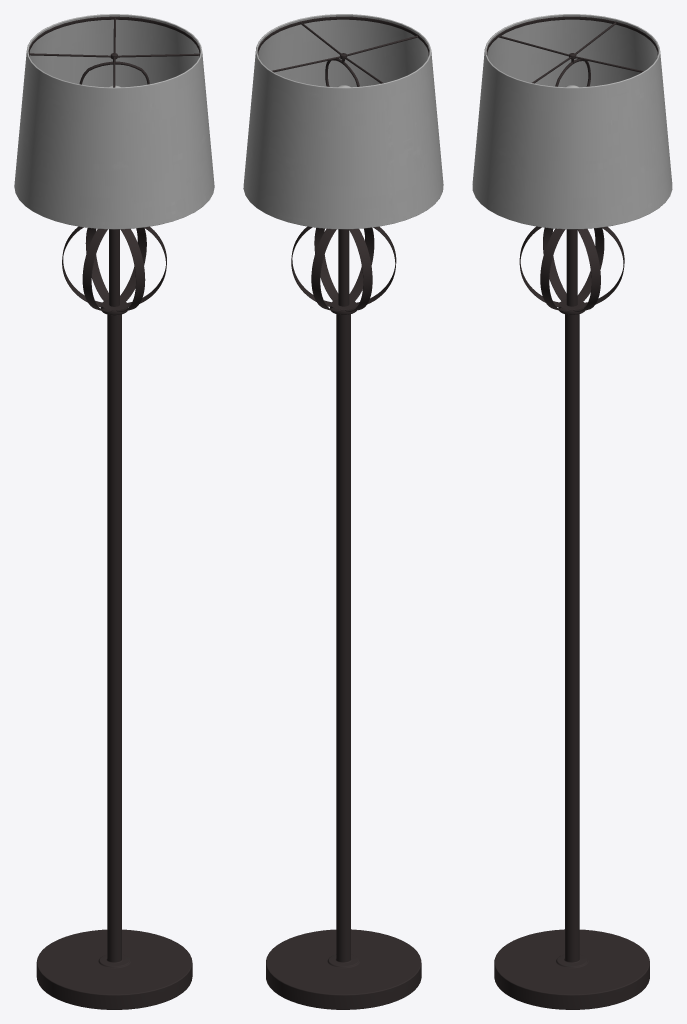
The model's file is abo-B07MBFDWNM.glb.
The picture shows the model from 3 angles, left to right: view 1: azimuth 30°, elevation 25°; view 2: azimuth 150°, elevation 25°; view 3: azimuth 270°, elevation 25°; orthographic projection.
Bounding box in the file's own units: 0.286 × 1.46 × 0.286.
1 material, 1 textured.
